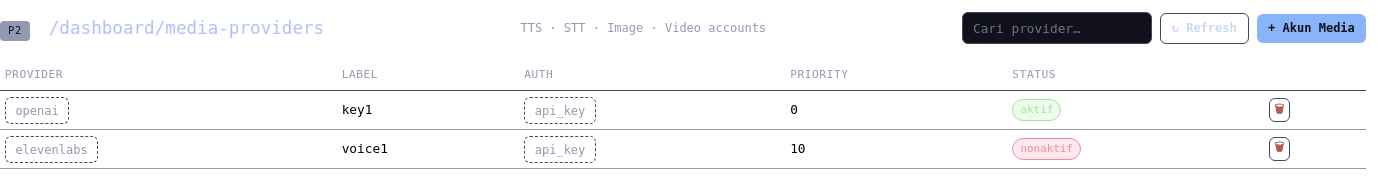
it: MediaProviders — search › filter tabel berdasarkan label
Type "key1" into the field with class "search". click: {"x": 1057, "y": 28}
box: [962,12,1152,44]
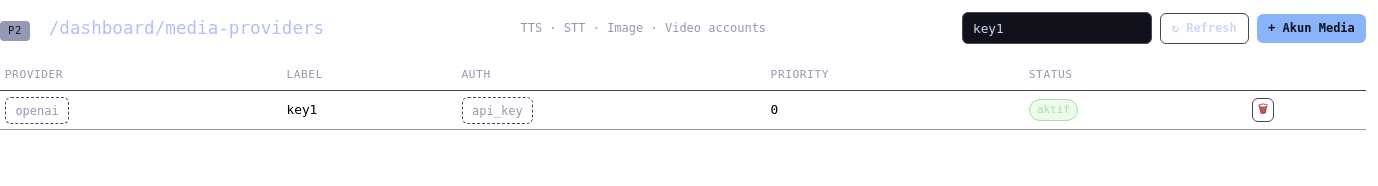
Expected: the cell "key1" is shown, [282,90,457,130]
Expected: the cell no longer shows "voice1"
